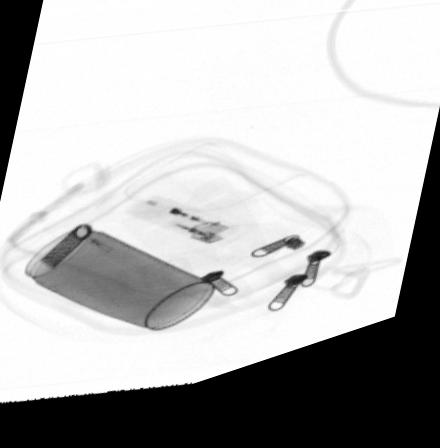Lighter: (123, 204, 239, 258)
